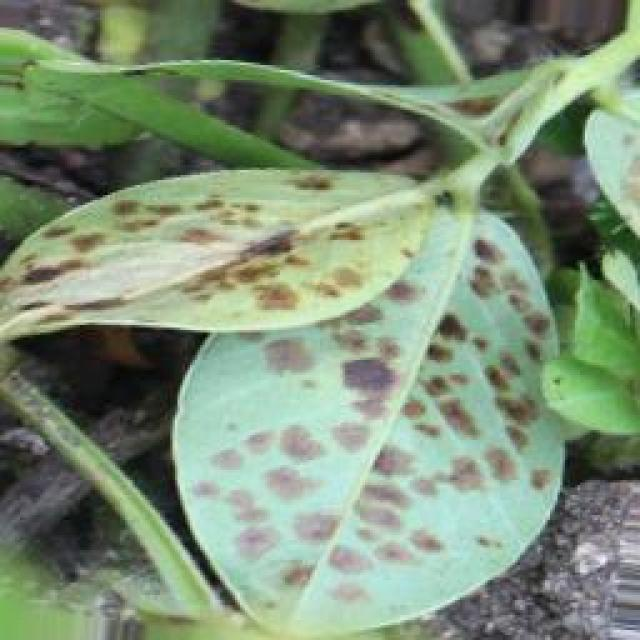Whitefly: (27, 142, 564, 591)
